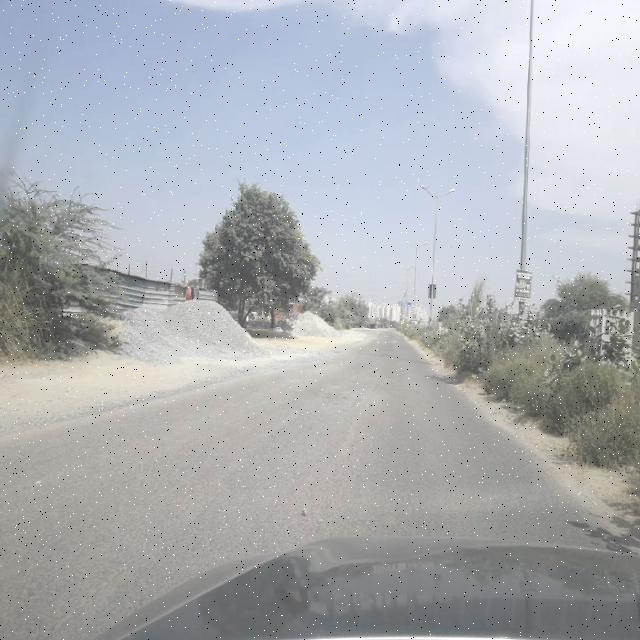D00: (47, 454, 216, 631)
D20: (2, 439, 196, 625)
